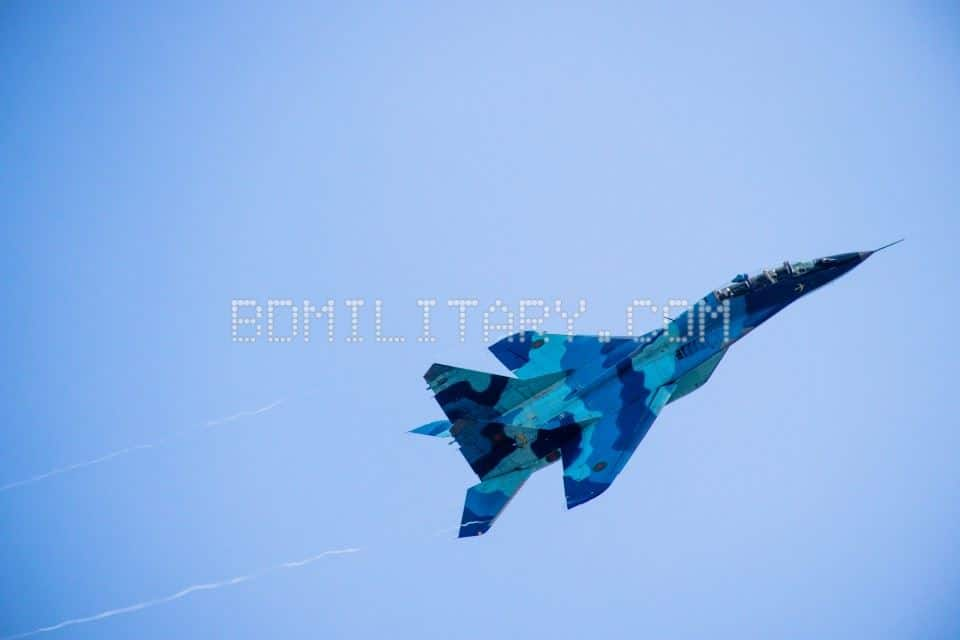Mig-29: (414, 238, 872, 495)
